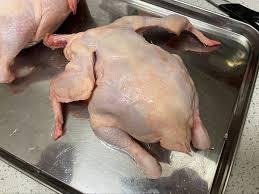chicken: (17, 4, 89, 52)
